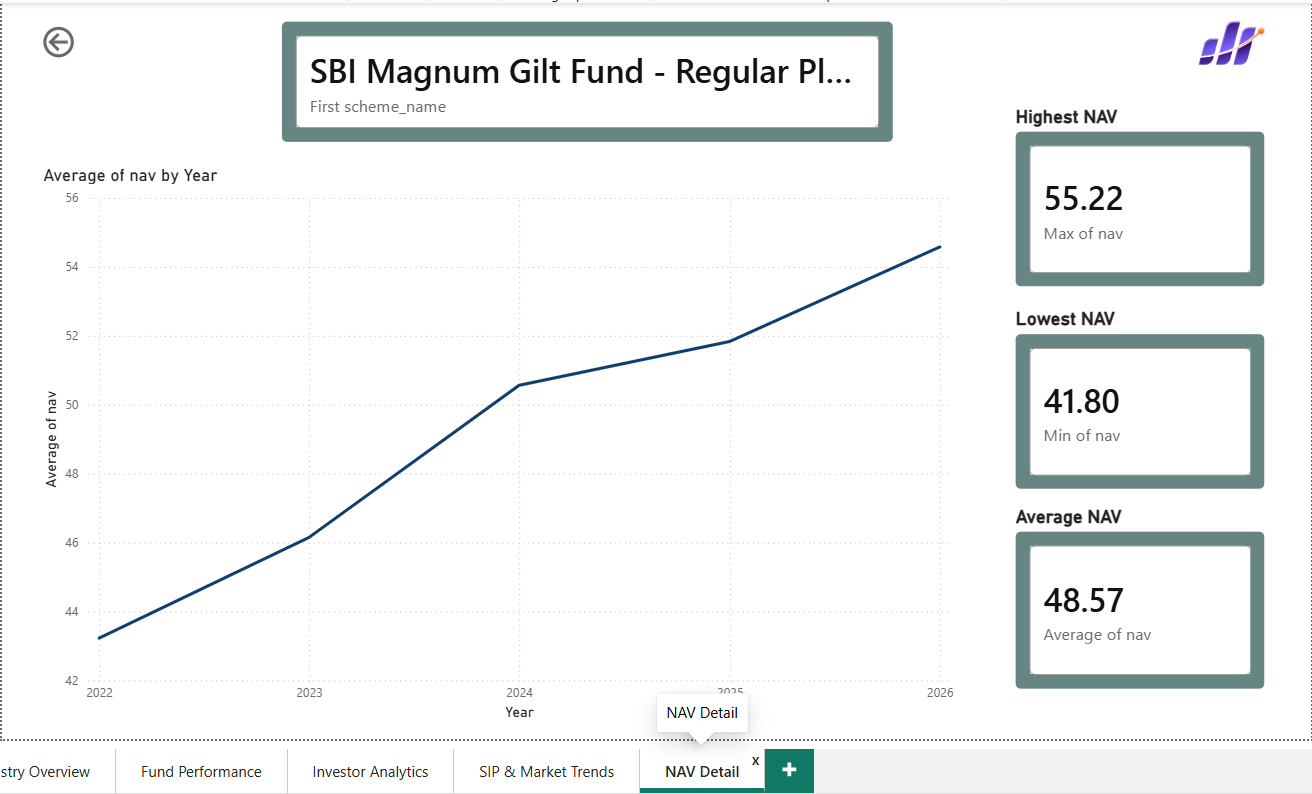

The page's visual inventory and layout, read from the dashboard file:
{"tool":"powerbi","page":{"name":"NAV Detail","canvas":[1280,720],"ordinal":4},"visuals":[{"type":"image","box":[1122.2,0,157.8,78.2],"z":0},{"type":"lineChart","fields":{"Category":["nav_history_clean.date.Variation.Date Hierarchy.Year","nav_history_clean.date.Variation.Date Hierarchy.Quarter","nav_history_clean.date.Variation.Date Hierarchy.Month","nav_history_clean.date.Variation.Date Hierarchy.Day"],"Y":["Avg(nav_history_clean.nav)"]},"box":[35.7,157.8,900.2,548.9],"z":1000},{"type":"actionButton","box":[35.7,17.8,97.4,39.8],"z":2000},{"type":"cardVisual","fields":{"Data":["Min(01_fund_master.scheme_name)"]},"box":[269,13.7,607.9,127.6],"z":3000},{"type":"cardVisual","title":"Highest NAV","fields":{"Data":["Max(nav_history_clean.nav)"]},"box":[986.6,100.2,253.9,182.5],"z":4000},{"type":"cardVisual","title":"Lowest NAV","fields":{"Data":["Min(nav_history_clean.nav)"]},"box":[986.6,297.8,253.9,182.5],"z":5000},{"type":"cardVisual","title":"Average NAV","fields":{"Data":["Avg(nav_history_clean.nav)"]},"box":[986.6,491.3,253.9,183.9],"z":6000}]}

Visuals, with their boxes on the page's 1280x720 design canvas (x1, y1, x2, y2). These are canvas units, not pixel positions in the 1312x794 screenshot, which may show the page scaled, cropped or inside an application window:
image: region(1122, 0, 1280, 78)
lineChart - nav_history_clean.date.Variation.Date Hierarchy.Year x nav_history_clean.date.Variation.Date Hierarchy.Quarter: region(36, 158, 936, 707)
actionButton: region(36, 18, 133, 58)
cardVisual - Min(01_fund_master.scheme_name): region(269, 14, 877, 141)
"Highest NAV" cardVisual: region(987, 100, 1240, 283)
"Lowest NAV" cardVisual: region(987, 298, 1240, 480)
"Average NAV" cardVisual: region(987, 491, 1240, 675)
